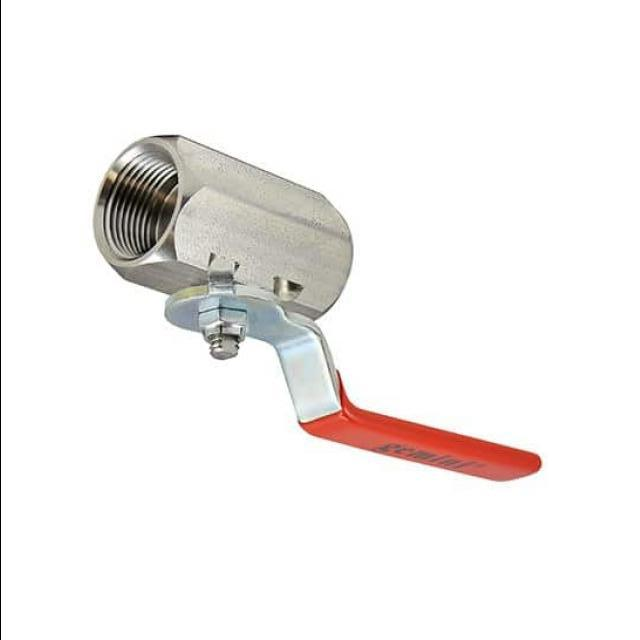opened valve: (88, 130, 545, 485)
